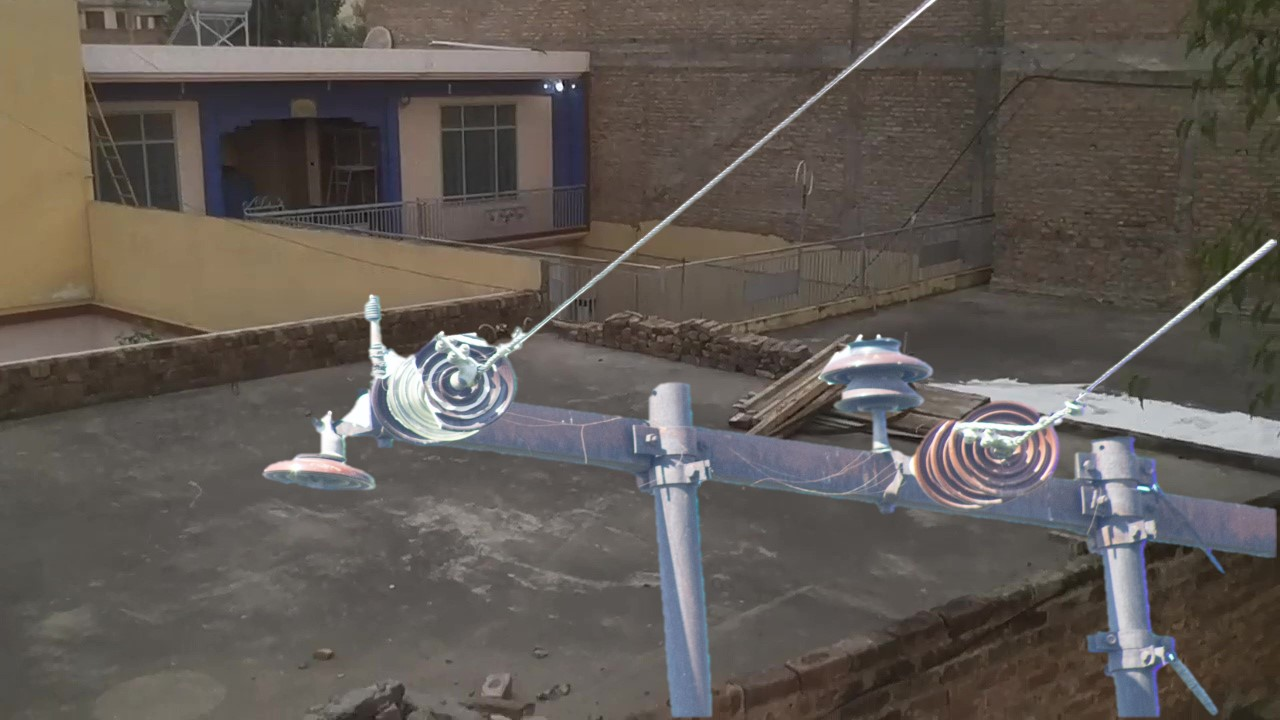defect_disc: (412, 329, 523, 436)
insulator_disc: (947, 401, 1063, 500), (258, 448, 385, 502)
